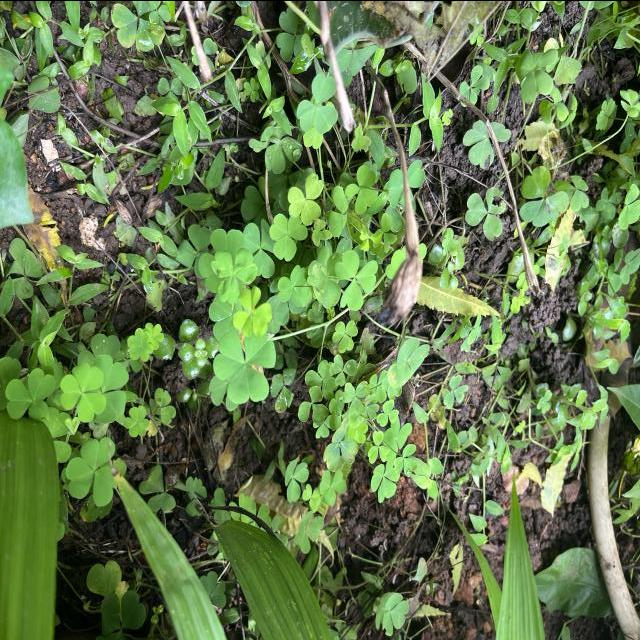Oxalis corniculata: (212, 326, 277, 404), (65, 436, 116, 506), (59, 361, 108, 422), (334, 248, 379, 312), (211, 247, 259, 305), (5, 366, 57, 419), (296, 72, 338, 134), (464, 186, 506, 241), (232, 282, 273, 336), (322, 416, 358, 472), (268, 212, 308, 261), (288, 172, 324, 226), (346, 163, 378, 214), (277, 264, 309, 308), (370, 458, 400, 503), (298, 384, 330, 426), (284, 458, 310, 502), (341, 379, 372, 415), (320, 468, 348, 507), (329, 353, 358, 386), (126, 327, 154, 361), (393, 442, 418, 478), (332, 318, 358, 352), (126, 404, 150, 438), (376, 398, 399, 427), (243, 76, 260, 102)
